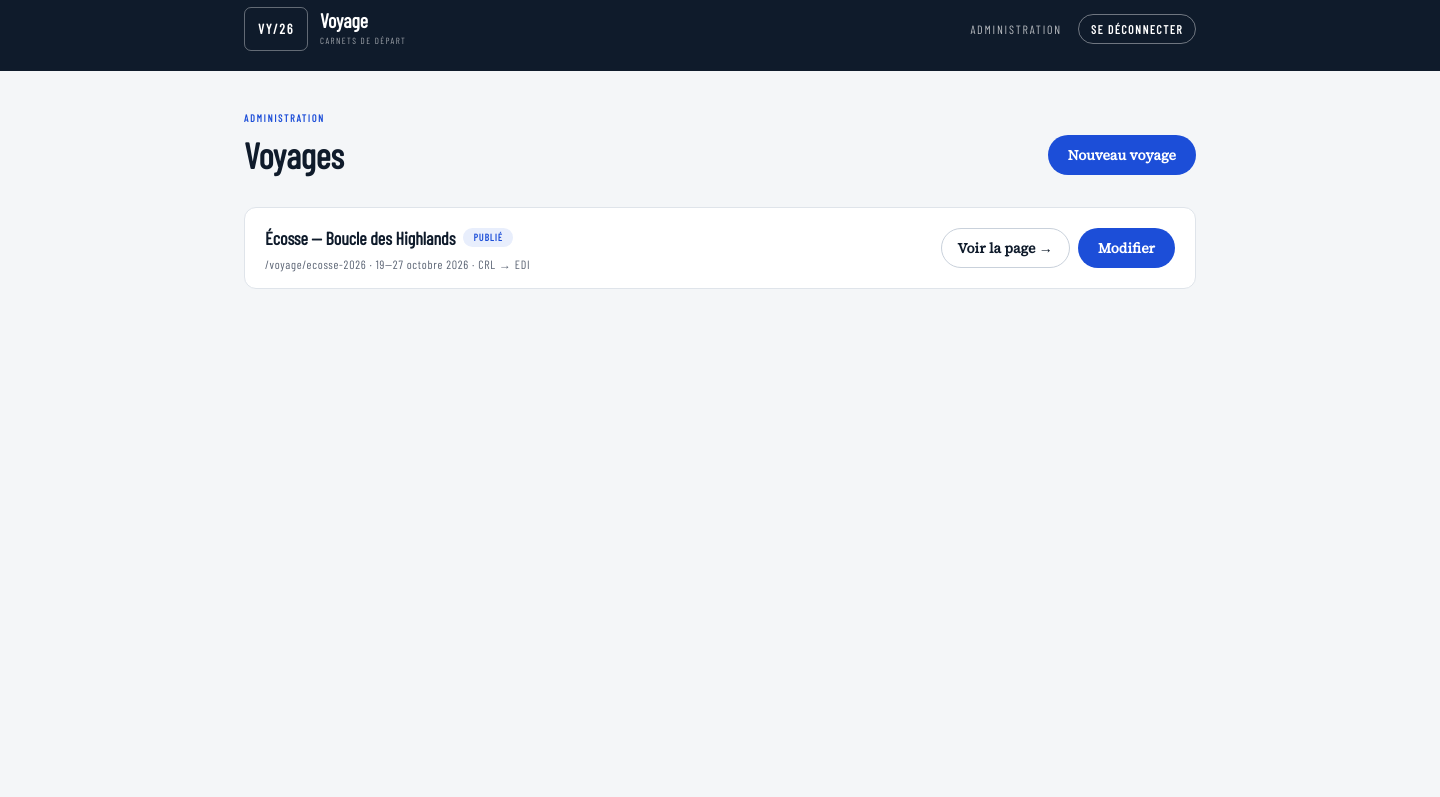
Test: édition d'un voyage › relie les erreurs de validation de l'API aux champs
The image size is (1440, 797).
Click the button "Modifier".
click(1126, 248)  # box [1078,228,1175,268]
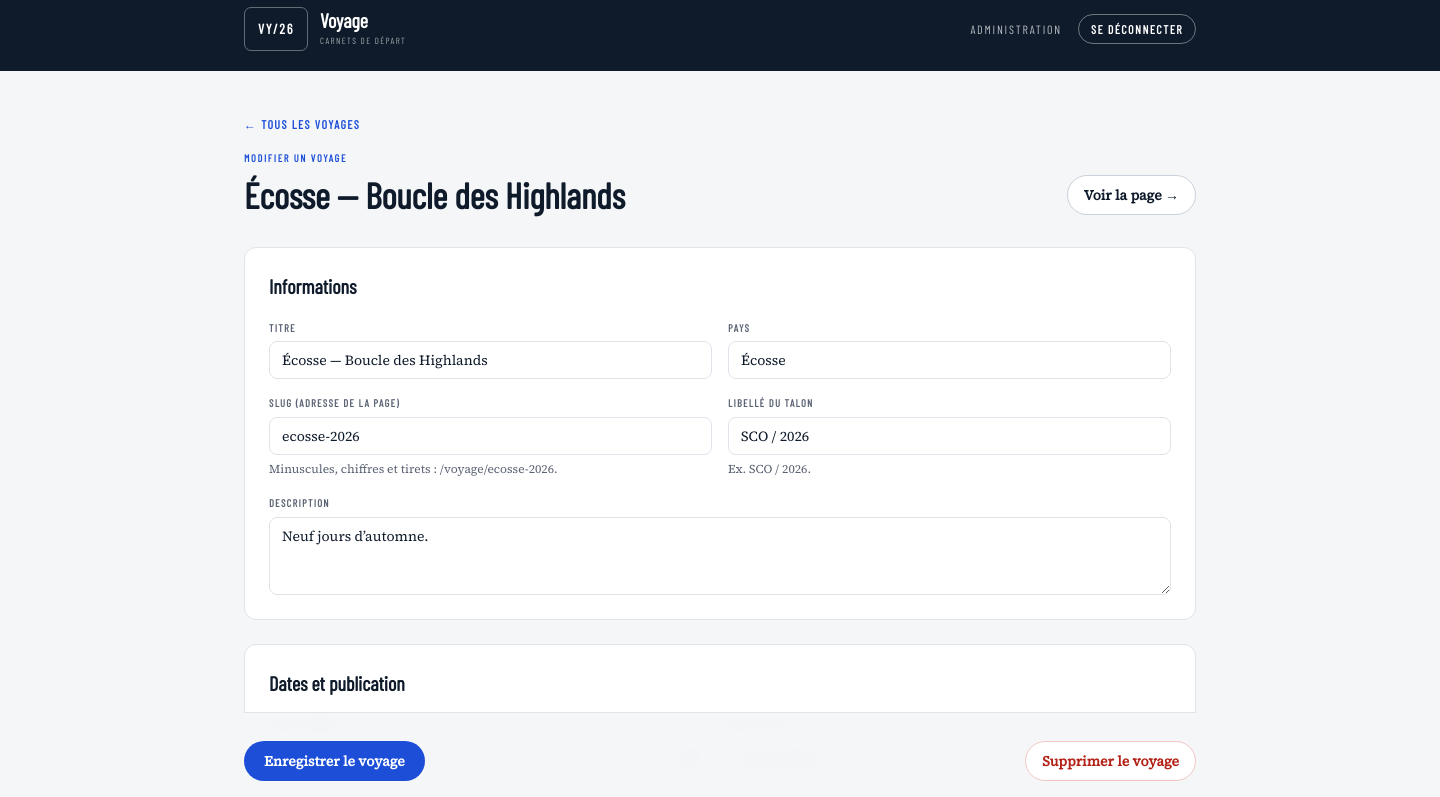
expect the heading "Écosse — Boucle des Highlands" is shown: met, box [244,175,625,215]
Click the button "Enregistrer le voyage".
click(334, 761)  # box [244,741,425,781]
(page scrolled)
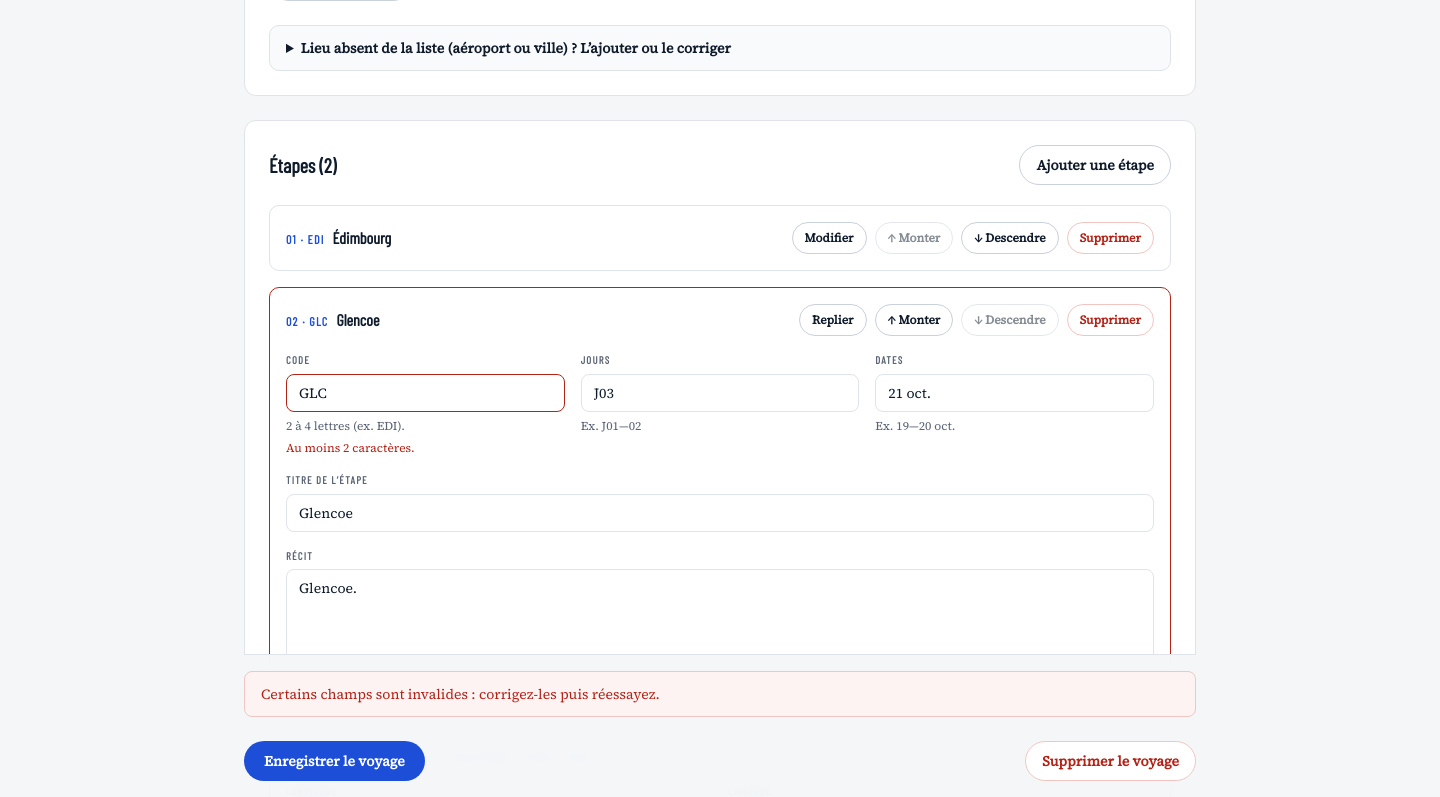
expect the message shows "champs sont invalides": met, box [261,684,660,704]
